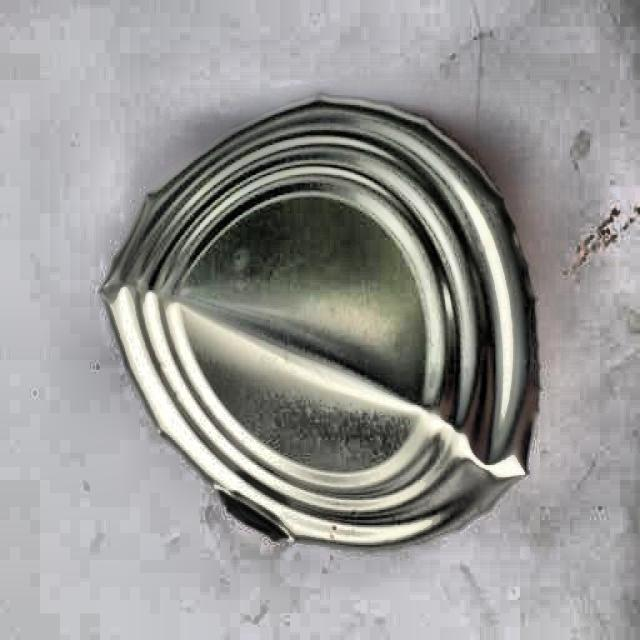metal: (96, 93, 547, 538)
